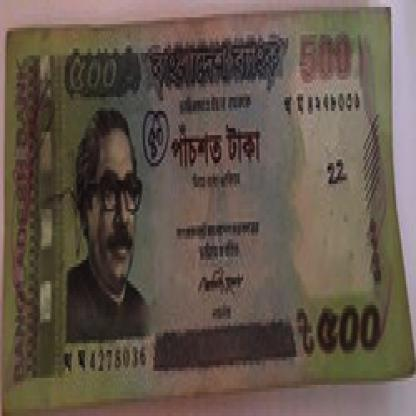500 taka: (163, 118, 268, 177), (55, 38, 140, 108)
currency: (2, 14, 414, 399)
